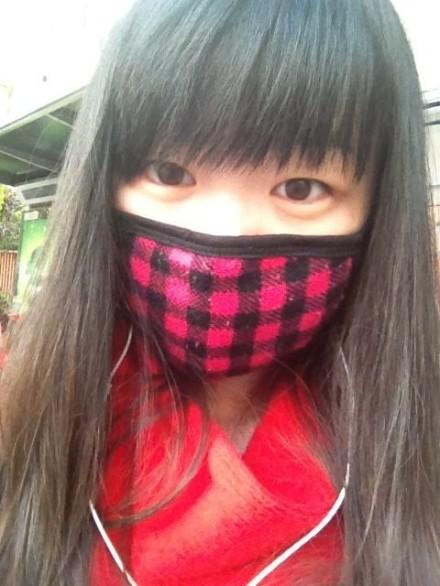OK: (108, 113, 359, 372)
